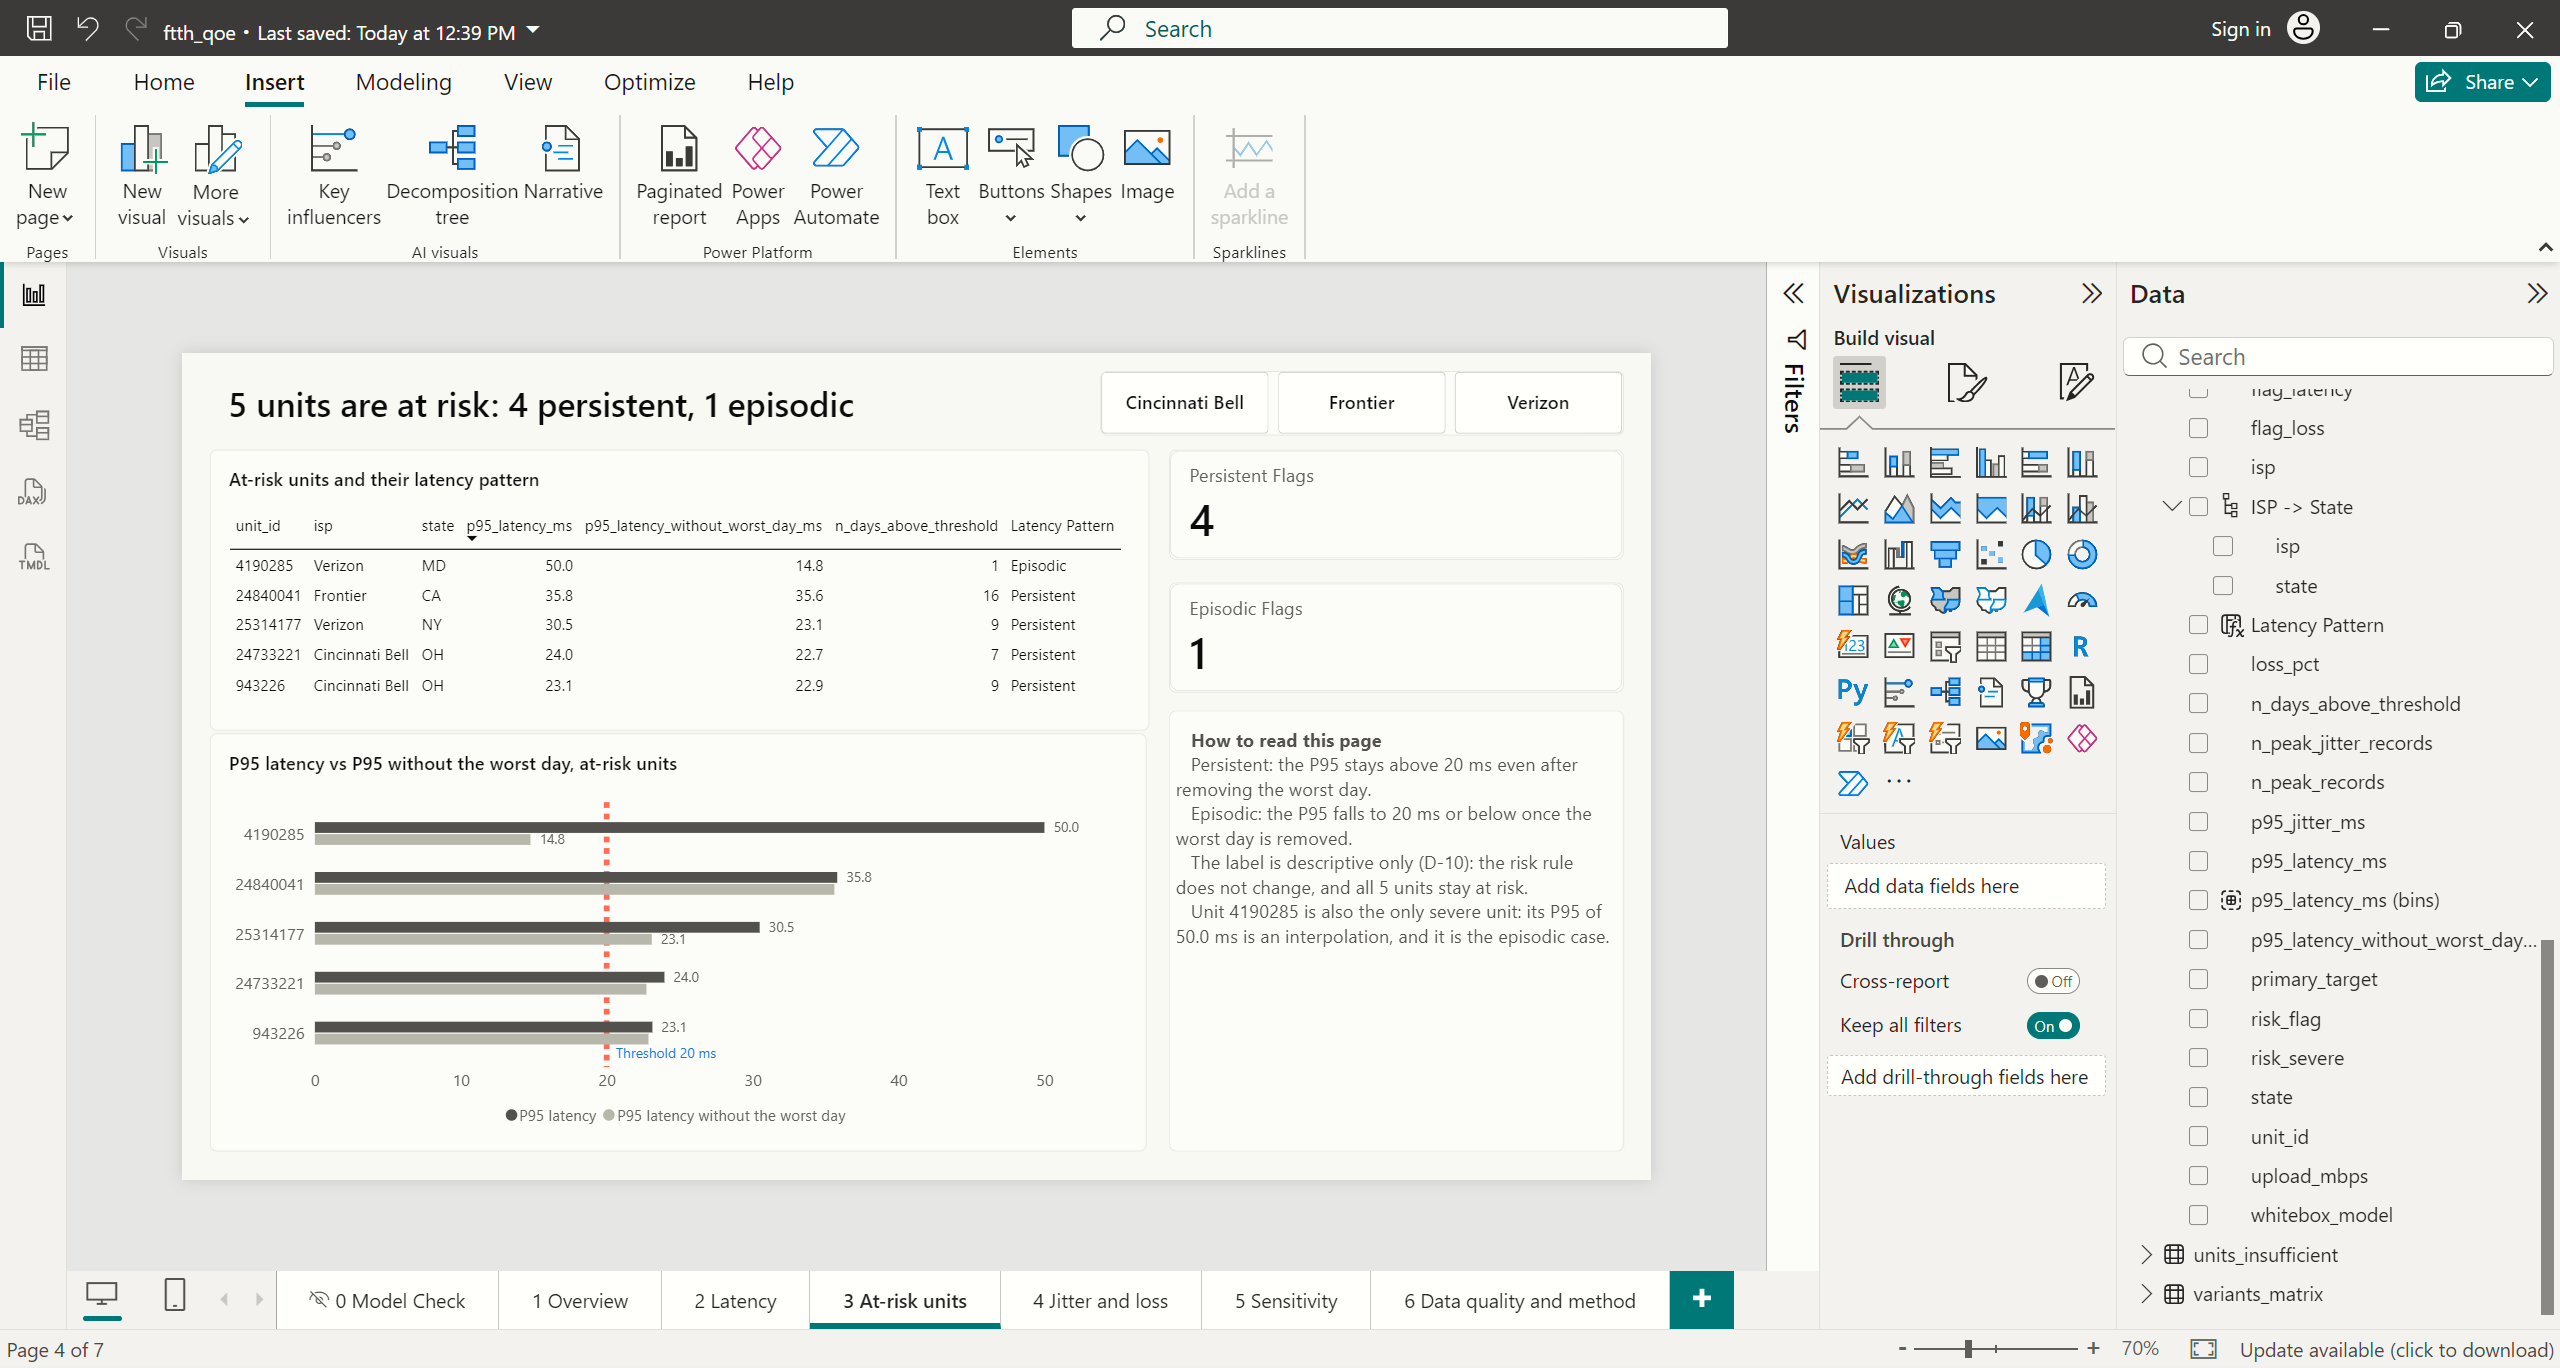

This screenshot's page, from the dashboard's own definition file:
{"tool":"powerbi","page":{"name":"3 At-risk units","canvas":[1280,720],"ordinal":3},"visuals":[{"type":"cardVisual","fields":{"Data":["_Measures.Headline At Risk"]},"box":[24,16,760,56],"z":0},{"type":"advancedSlicerVisual","fields":{"Values":["unit_metrics.isp"]},"box":[800,16,456,56],"z":1000},{"type":"tableEx","title":"At-risk units and their latency pattern","fields":{"Values":["unit_metrics.unit_id","unit_metrics.ISP -> State.isp","unit_metrics.state","unit_metrics.p95_latency_ms","unit_metrics.p95_latency_without_worst_day_ms","unit_metrics.n_days_above_threshold","unit_metrics.Latency Pattern"]},"box":[24.3,84.3,818.6,244.3],"z":2000},{"type":"clusteredBarChart","title":"P95 latency vs P95 without the worst day, at-risk units","fields":{"Category":["unit_metrics.unit_id"],"Y":["Avg(unit_metrics.p95_latency_ms)","Avg(unit_metrics.p95_latency_without_worst_day_ms)"]},"box":[24,332,816,364],"z":3000},{"type":"cardVisual","fields":{"Data":["_Measures.Persistent Flags"]},"box":[860,84.3,396,96],"z":4000},{"type":"cardVisual","fields":{"Data":["_Measures.Episodic Flags"]},"box":[860,200,396,96],"z":5000},{"type":"textbox","box":[860,312,396,384],"z":6000}]}

Visuals, with their boxes on the page's 1280x720 design canvas (x1, y1, x2, y2). These are canvas units, not pixel positions in the 2560x1368 screenshot, which may show the page scaled, cropped or inside an application window:
cardVisual - _Measures.Headline At Risk: <region>24, 16, 784, 72</region>
advancedSlicerVisual - unit_metrics.isp: <region>800, 16, 1256, 72</region>
"At-risk units and their latency pattern" tableEx: <region>24, 84, 843, 329</region>
"P95 latency vs P95 without the worst day, at-risk units" clusteredBarChart: <region>24, 332, 840, 696</region>
cardVisual - _Measures.Persistent Flags: <region>860, 84, 1256, 180</region>
cardVisual - _Measures.Episodic Flags: <region>860, 200, 1256, 296</region>
textbox: <region>860, 312, 1256, 696</region>
